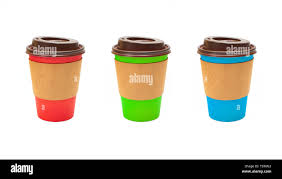cup: (197, 33, 259, 122), (111, 31, 171, 122), (25, 33, 84, 122)
